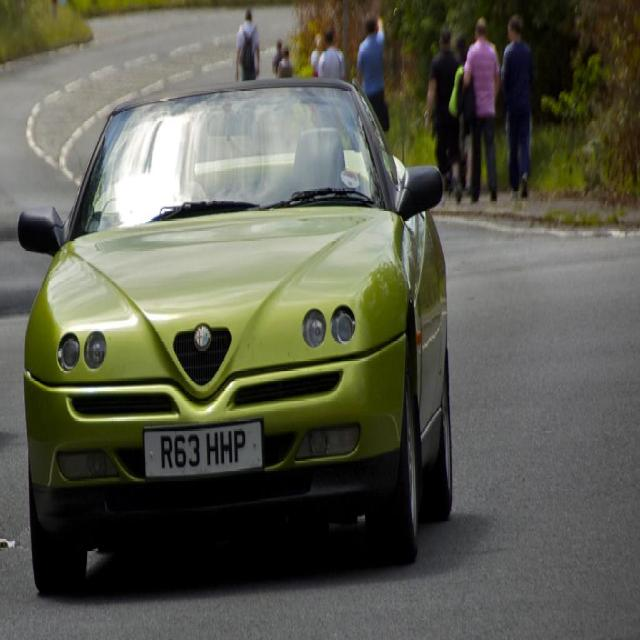car: (16, 72, 453, 602)
